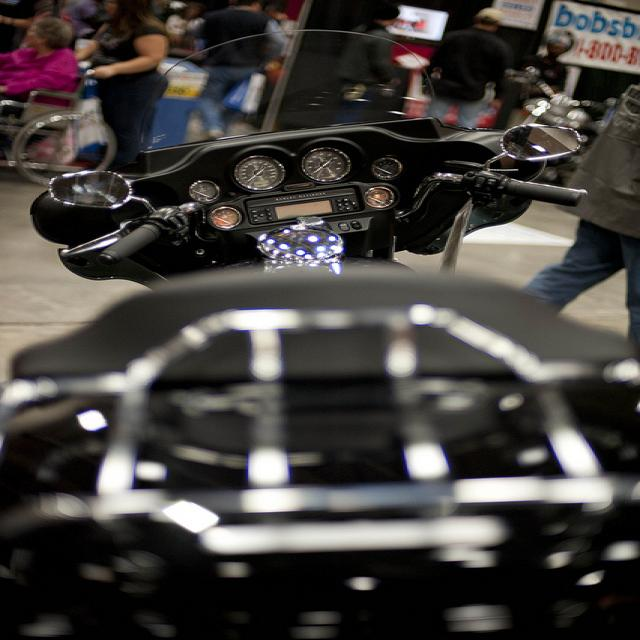motor: (4, 30, 633, 630)
